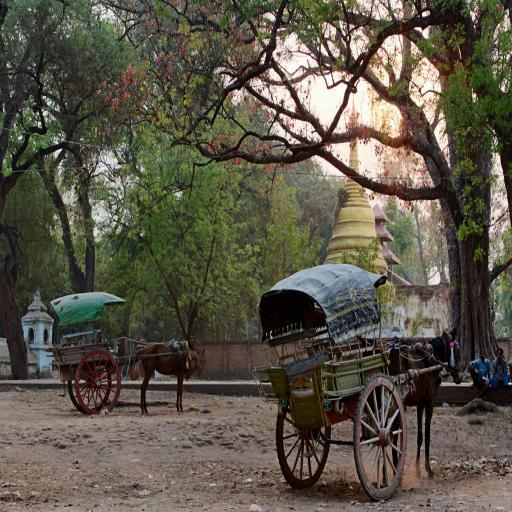horse: (384, 326, 464, 488), (134, 340, 208, 415)
